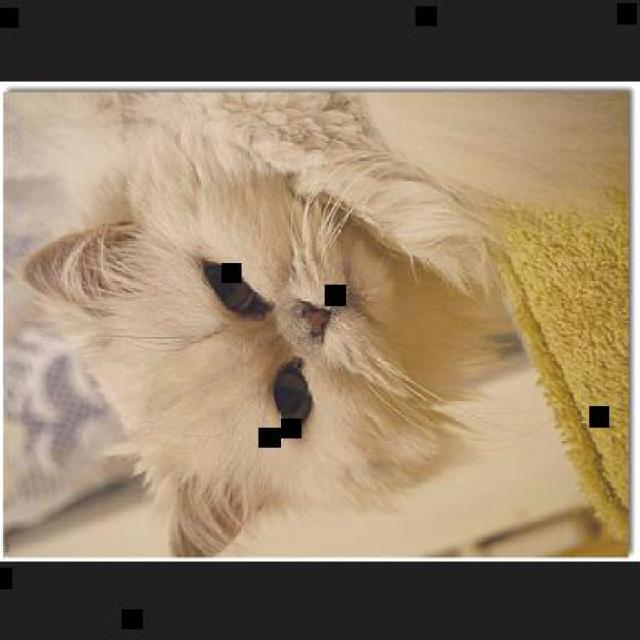unauthorized: (15, 90, 532, 556)
